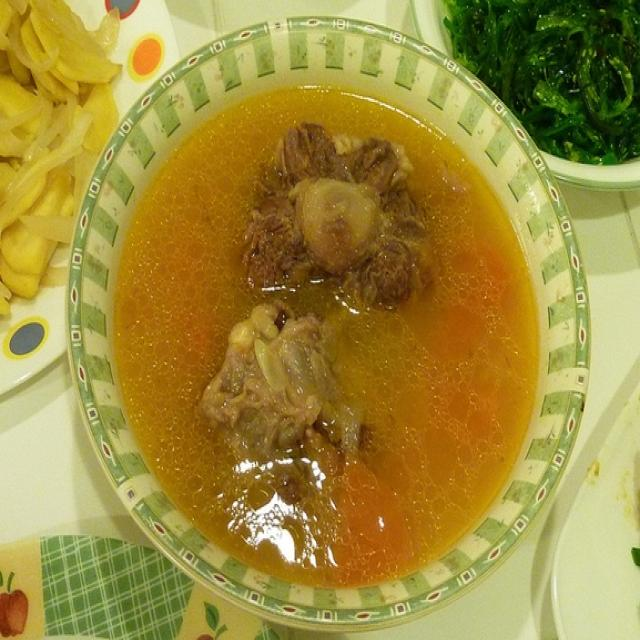汤锅炖物: (60, 34, 578, 618)
